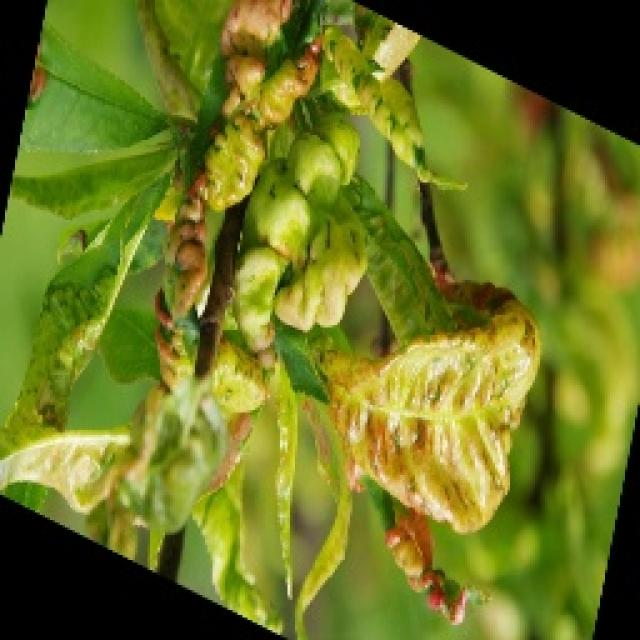peach_leaf_curl: (170, 17, 552, 558)
